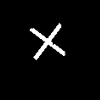single_crochet: (30, 24, 64, 59)
